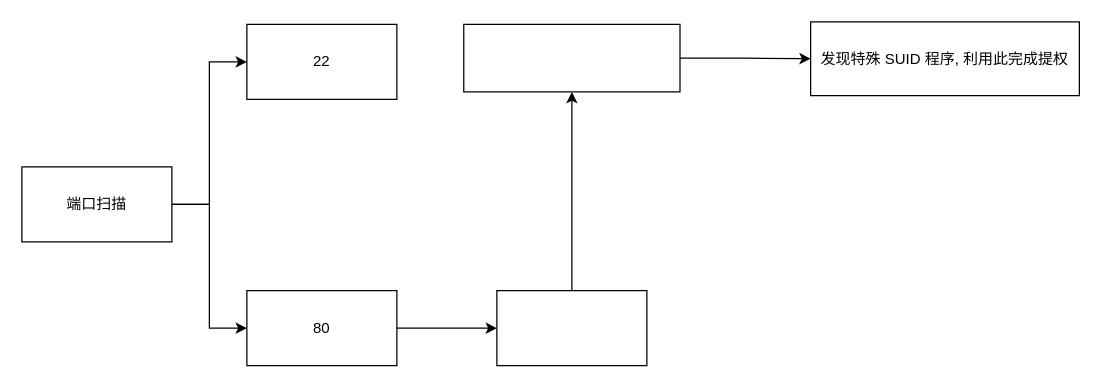
Image size: 1101x388. Some labels were removed from this diagram. Each missing label, with the centre of its shape:
发现一处文件上传的位置, 绕过此完成对文件的上传: (571,327)
获取到 www-data 用户的 Shell: (571,57)
